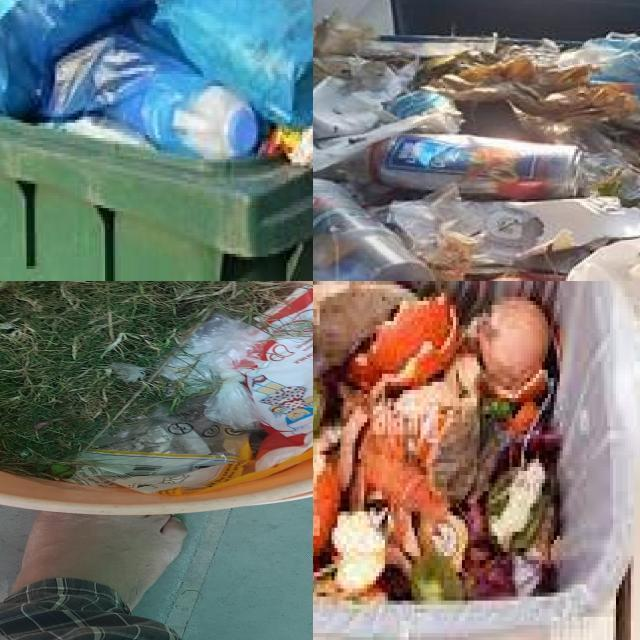Disposable: (313, 181, 433, 281)
Garbage: (313, 18, 640, 281), (313, 281, 559, 602), (0, 281, 313, 493)
Plastic_Bag: (161, 315, 269, 430), (246, 286, 313, 470), (388, 188, 545, 264)
Plastic_wraper: (69, 395, 253, 493)
can: (370, 134, 586, 200)
